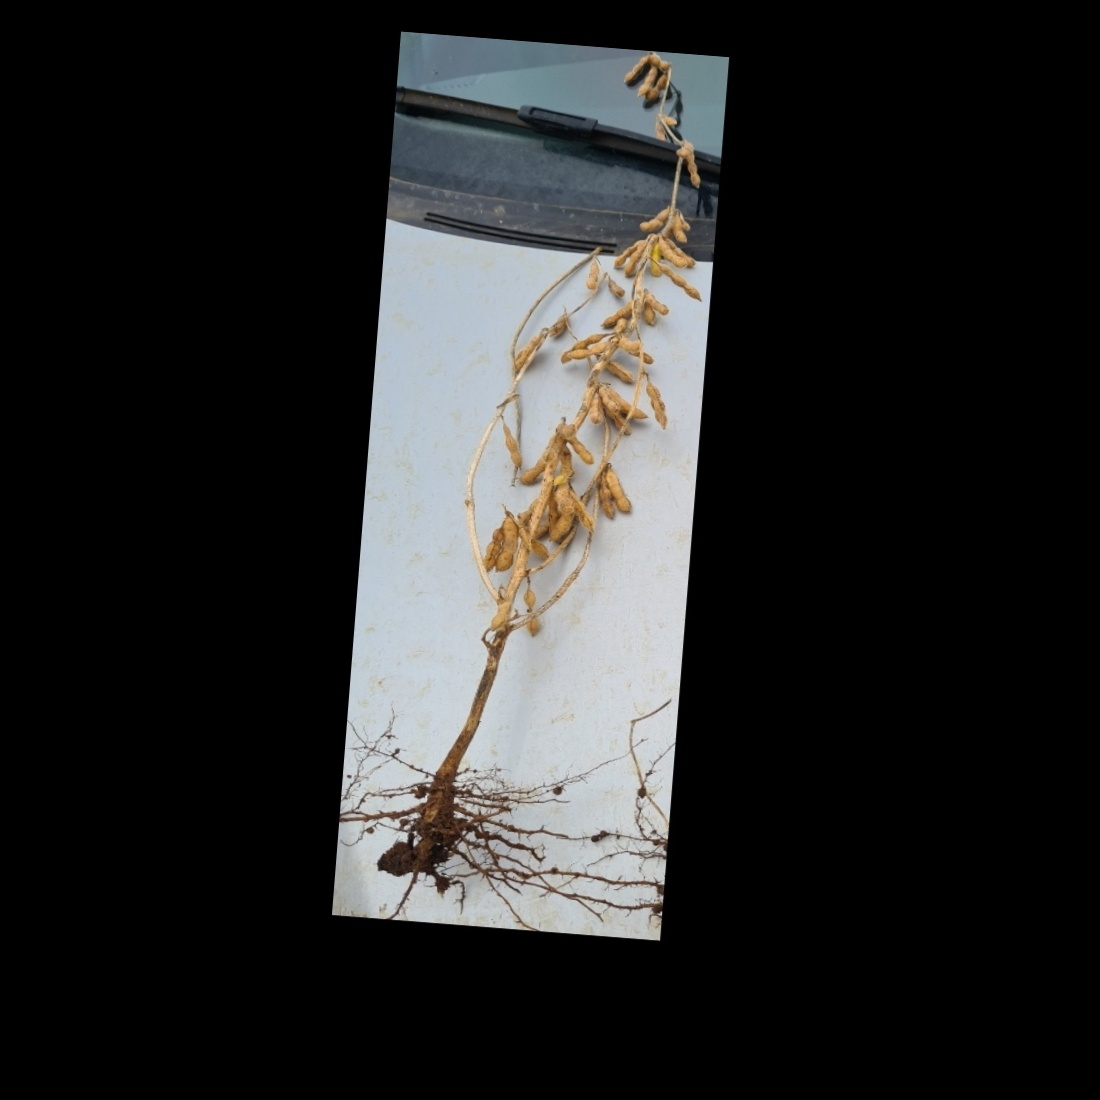pod: (488, 415, 531, 472), (638, 376, 675, 436), (488, 509, 522, 574), (655, 262, 707, 303), (600, 468, 639, 518), (477, 522, 511, 574), (559, 428, 599, 468), (653, 236, 694, 270), (620, 49, 654, 88), (558, 337, 610, 362), (678, 149, 705, 191), (642, 73, 670, 109), (635, 63, 657, 101)
soy: (357, 24, 718, 901)
